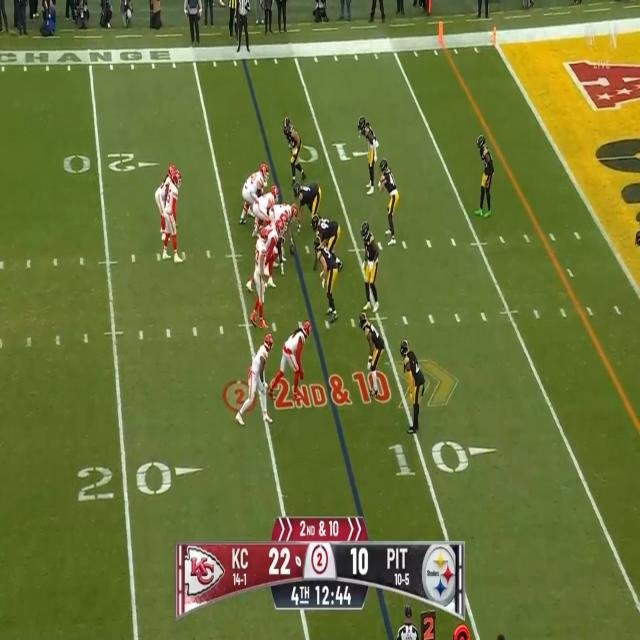Ball: (289, 241, 296, 256)
